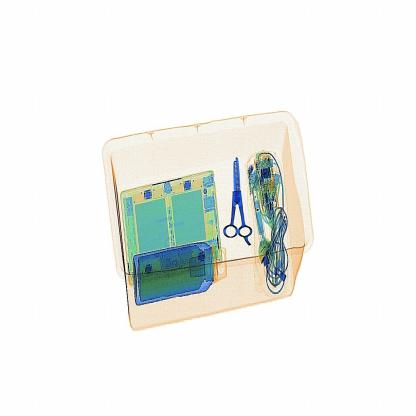gun: (219, 145, 256, 254)
